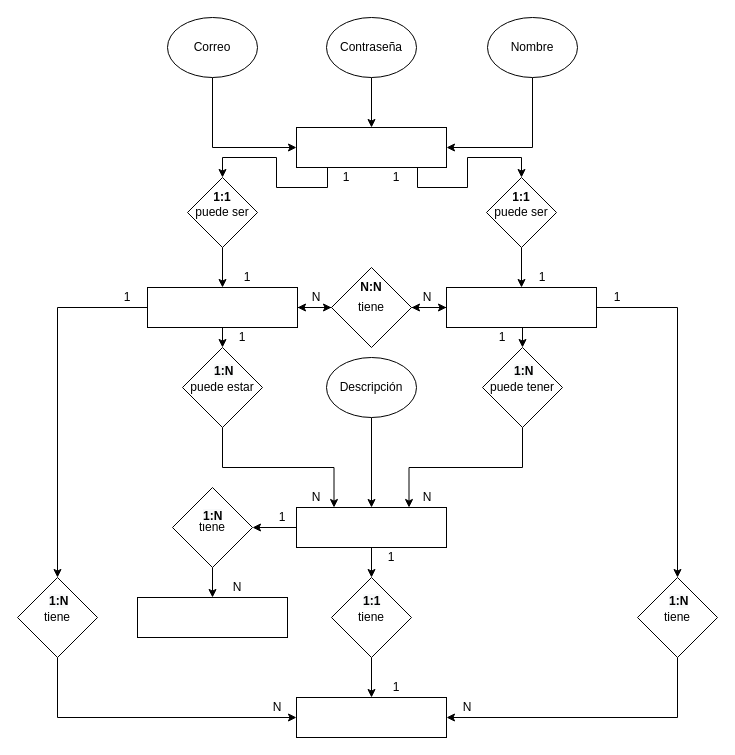
Image size: 735x755. Some labels were removed from this diagram. The centre of each missing label's shape, as x and y in pixels:
Alumno: the point at 222,307
Calificación: the point at 212,617
Chat: the point at 371,717
Clase: the point at 371,527
Profesor: the point at 521,307
Usuario: the point at 371,147
